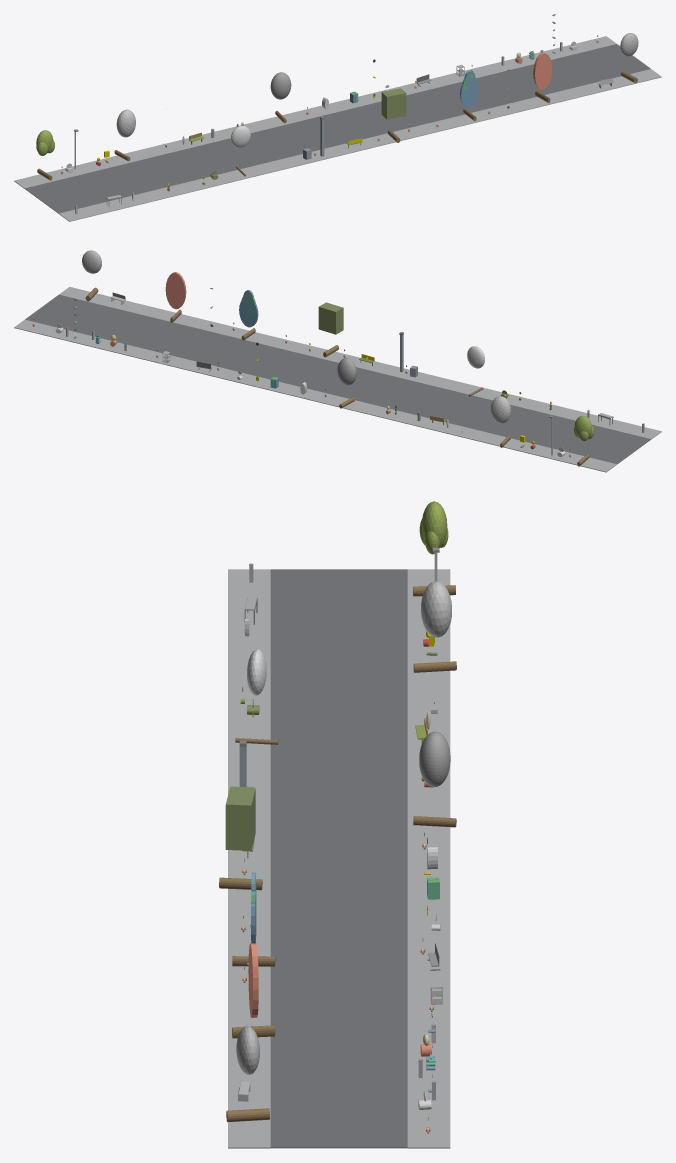
The picture shows the model from 3 angles, top to bottom: view 1: azimuth 30°, elevation 25°; view 2: azimuth 150°, elevation 25°; view 3: azimuth 270°, elevation 25°; orthographic projection. The views are drawn at different scales.
Visible parts, largest first — view 1: road_slab, sidewalk_left, sidewalk_right, inst_0022, inst_0024, inst_0023, inst_0021, inst_0019, inst_0018, inst_0025, inst_0020; view 2: road_slab, sidewalk_right, sidewalk_left, inst_0022, inst_0024, inst_0023, inst_0019, inst_0021, inst_0018, inst_0025, inst_0020; view 3: road_slab, sidewalk_right, sidewalk_left, inst_0022, inst_0019, inst_0021, inst_0025, inst_0018, inst_0024, inst_0020.
Boxes of the visible parts, x1,y1,x2,y2 form: road_slab: [24, 44, 650, 213]; sidewalk_left: [59, 69, 661, 221]; sidewalk_right: [14, 36, 616, 188]; inst_0022: [381, 88, 406, 142]; inst_0024: [533, 52, 552, 103]; inst_0023: [460, 70, 479, 121]; inst_0021: [270, 72, 291, 123]; inst_0019: [114, 109, 135, 161]; inst_0018: [36, 130, 54, 180]; inst_0025: [620, 33, 638, 83]; inst_0020: [231, 125, 250, 176]; road_slab: [25, 294, 651, 464]; sidewalk_right: [14, 319, 616, 472]; sidewalk_left: [59, 286, 661, 439]; inst_0022: [318, 302, 343, 357]; inst_0024: [165, 272, 186, 322]; inst_0023: [239, 290, 258, 340]; inst_0019: [490, 396, 511, 447]; inst_0021: [337, 358, 356, 408]; inst_0018: [574, 415, 594, 466]; inst_0025: [82, 250, 101, 301]; inst_0020: [467, 346, 484, 396]; road_slab: [270, 569, 407, 1148]; sidewalk_right: [407, 569, 450, 1148]; sidewalk_left: [228, 569, 270, 1148]; inst_0022: [219, 786, 262, 890]; inst_0019: [413, 581, 456, 672]; inst_0021: [413, 731, 456, 827]; inst_0025: [226, 1026, 269, 1122]; inst_0018: [413, 501, 455, 596]; inst_0024: [232, 943, 275, 1038]; inst_0020: [235, 649, 278, 744].
Size of the model in its own units: 80 by 6.08 by 13.9.
